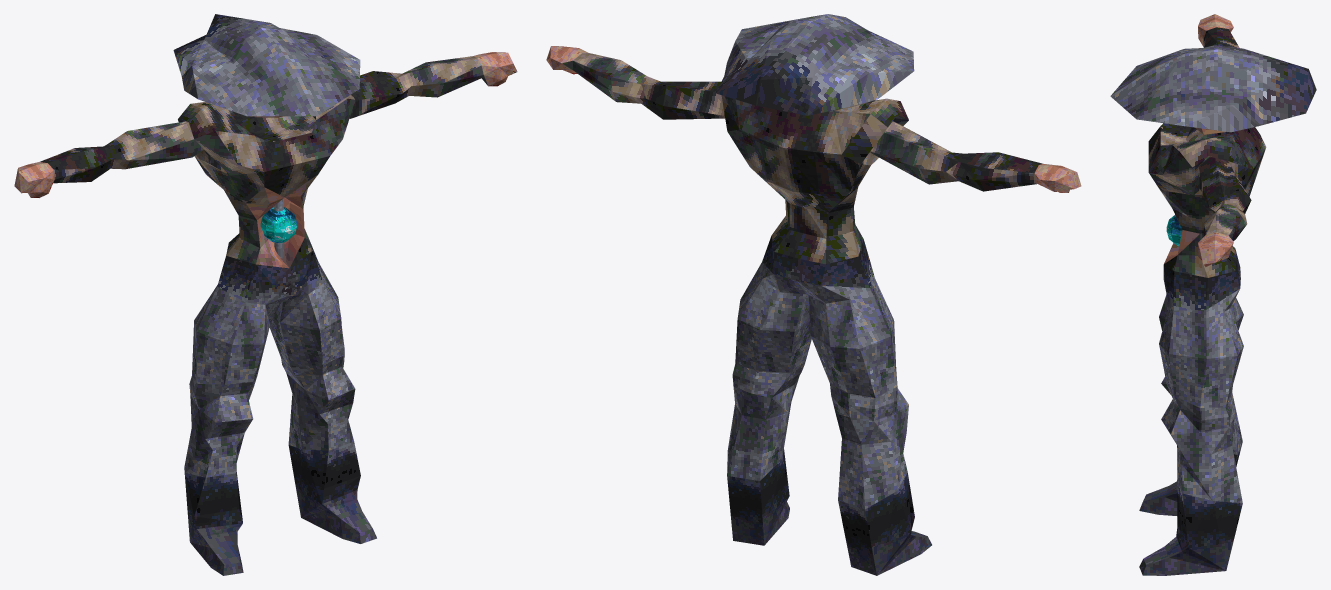
The model's file is shootColor.fbx.
3 renders of one model, left to right at view 1: azimuth 30°, elevation 25°; view 2: azimuth 150°, elevation 25°; view 3: azimuth 270°, elevation 25°, orthographic. The views are drawn at different scales.
Parts seen in each view (by area): view 1: Body, Hat, Arms, core; view 2: Body, Hat, Arms; view 3: Body, Hat, Arms, core.
Boxes of the visible parts, <box> form: Body: <box>178,94,376,575</box>; Hat: <box>173,14,360,116</box>; Arms: <box>14,52,517,197</box>; core: <box>260,207,297,242</box>; Body: <box>721,95,931,575</box>; Hat: <box>716,14,914,115</box>; Arms: <box>546,46,1081,192</box>; Body: <box>1139,123,1266,575</box>; Hat: <box>1110,45,1316,132</box>; Arms: <box>1198,14,1251,267</box>; core: <box>1166,215,1182,246</box>.
Size of the model in its own units: 31.38 by 30.22 by 11.55.
7 materials, 7 textured.
